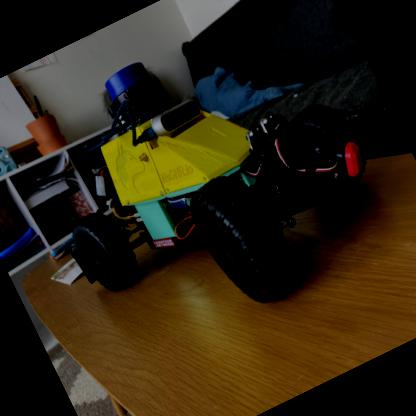mushr_car: (5, 0, 411, 374)
